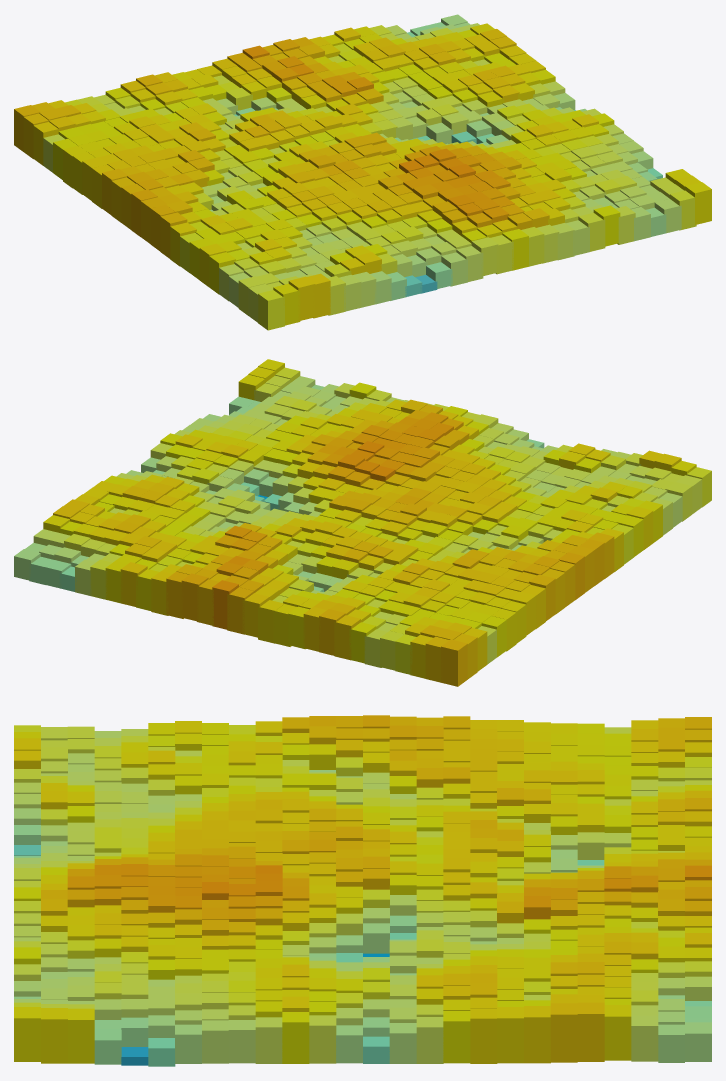
The model's file is population.glb.
3 views of the same model, one above another, from view 1: azimuth 30°, elevation 25°; view 2: azimuth 150°, elevation 25°; view 3: azimuth 270°, elevation 25° (orthographic). The views are drawn at different scales.
Visible parts, largest first — view 1: population; view 2: population; view 3: population.
Boxes of the visible parts, <box> form: population: <box>14,14,711,330</box>; population: <box>14,359,711,686</box>; population: <box>14,715,711,1066</box>.
Bounding box in the file's own units: 2612 × 255 × 2588.
